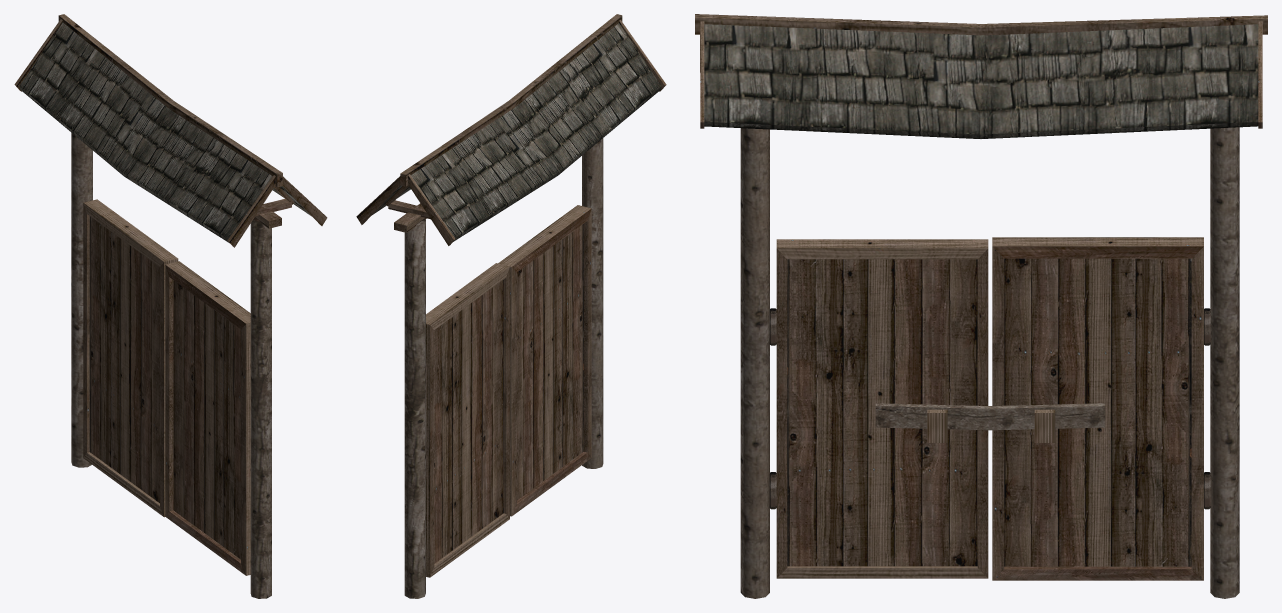
Rendered from wooden_gate.glb.
3 views of the same model, side by side, from view 1: azimuth 30°, elevation 25°; view 2: azimuth 150°, elevation 25°; view 3: azimuth 270°, elevation 25° (orthographic). The views are drawn at different scales.
Visible parts, largest first — view 1: gate_2; view 2: gate_2; view 3: gate_2.
Boxes of the visible parts, x1,y1,x2,y2 form: gate_2: [14, 14, 327, 598]; gate_2: [356, 14, 666, 598]; gate_2: [695, 14, 1267, 598].
Bounding box in the file's own units: 0.2153 × 0.9156 × 0.8278.
1 material, 1 textured.
